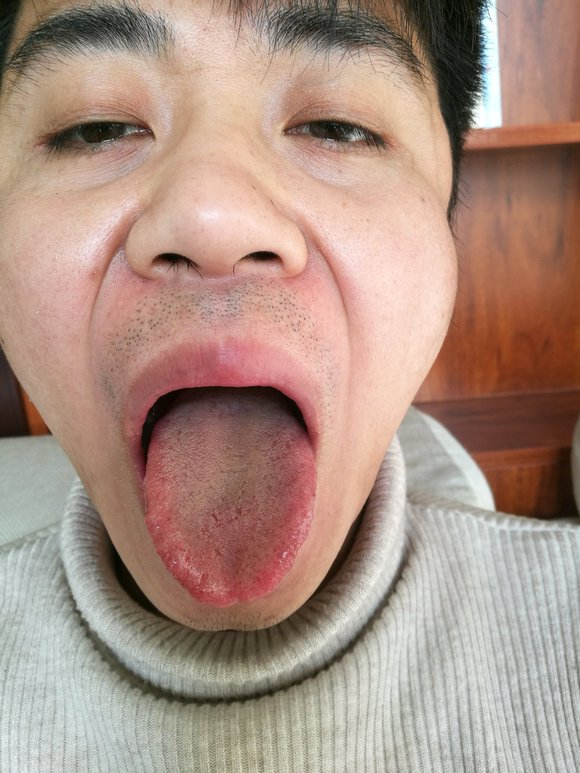hongshe: (143, 391, 318, 605)
huangtaishe: (143, 391, 318, 605)
liewenshe: (206, 500, 244, 528)
